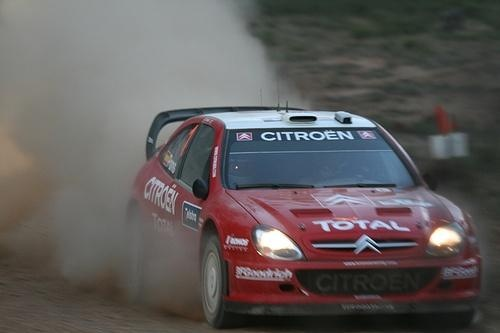car: (120, 106, 483, 332)
